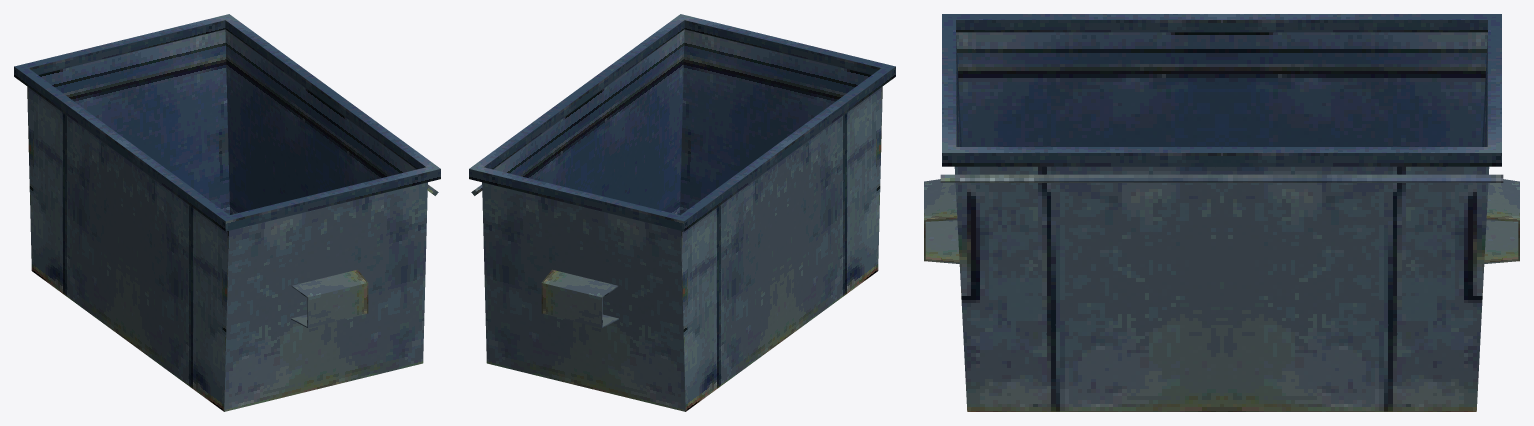
Rendered from dumpster_empty_no_lid_blue.glb.
3 views of the same model, side by side, from view 1: azimuth 30°, elevation 25°; view 2: azimuth 150°, elevation 25°; view 3: azimuth 270°, elevation 25° (orthographic). The views are drawn at different scales.
Parts seen in each view (by area): view 1: dumpster_empty_no_lid_blue; view 2: dumpster_empty_no_lid_blue; view 3: dumpster_empty_no_lid_blue.
Part boxes in pixels (<box>): dumpster_empty_no_lid_blue: <box>14,14,440,411</box>; dumpster_empty_no_lid_blue: <box>469,14,895,411</box>; dumpster_empty_no_lid_blue: <box>924,14,1519,411</box>.
Size of the model in its own units: 2.03 by 1.8 by 3.67.
Materials: 1 (1 with a texture image).
